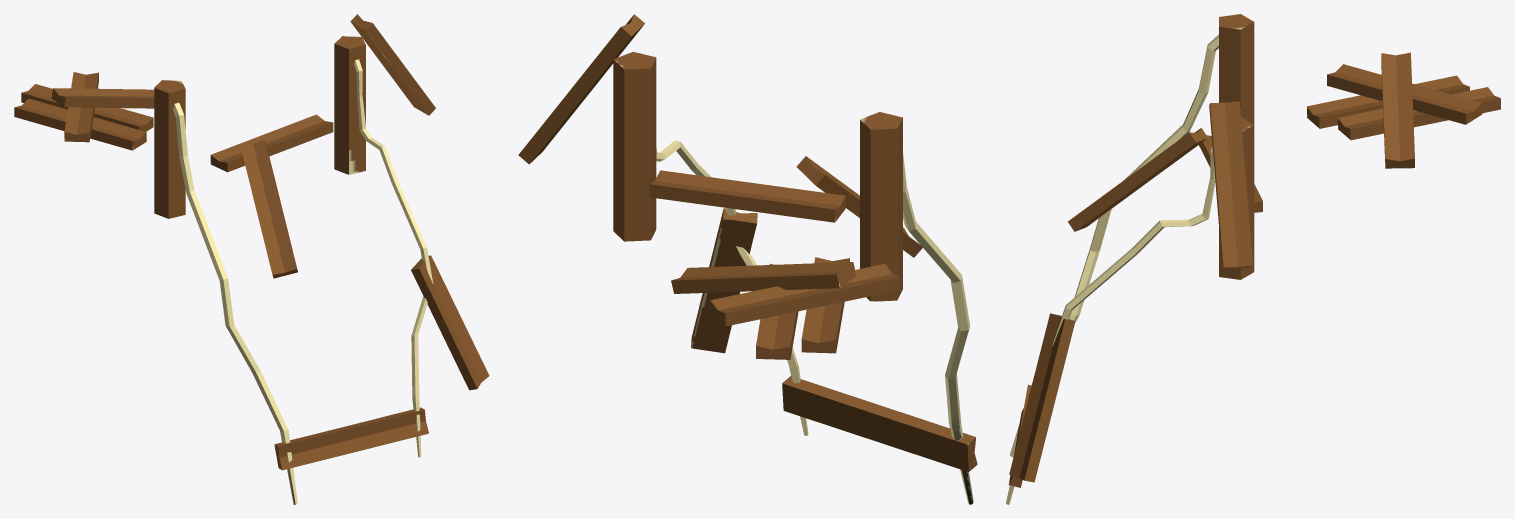
Rendered from Bridge 1.fbx.
The picture shows the model from 3 angles, left to right: view 1: azimuth 30°, elevation 25°; view 2: azimuth 150°, elevation 25°; view 3: azimuth 270°, elevation 25°; orthographic projection. The views are drawn at different scales.
Parts seen in each view (by area): view 1: Cube; view 2: Cube; view 3: Cube.
Boxes of the visible parts, x1=… form: Cube: x1=14, y1=14, x2=489, y2=504; Cube: x1=518, y1=14, x2=977, y2=504; Cube: x1=1006, y1=14, x2=1500, y2=504.
Bounding box in the file's own units: 5.36 × 6.06 × 6.09.
